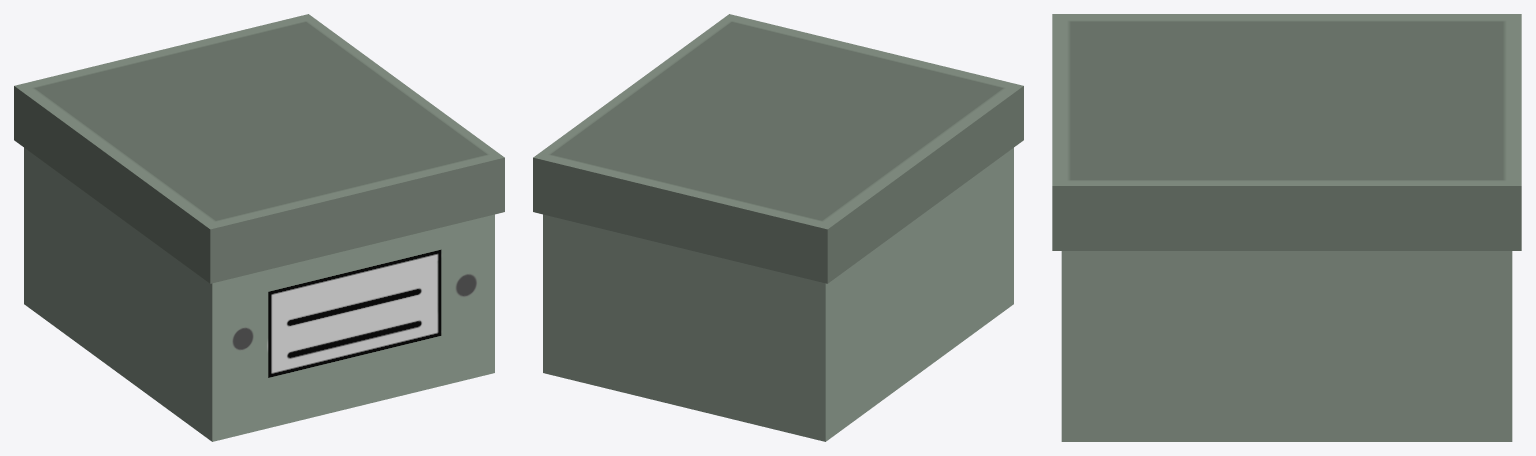
Rendered from SmallBox.fbx.
3 renders of one model, left to right at view 1: azimuth 30°, elevation 25°; view 2: azimuth 150°, elevation 25°; view 3: azimuth 270°, elevation 25°, orthographic. The views are drawn at different scales.
Visible parts, largest first — view 1: Box1, Box; view 2: Box1, Box; view 3: Box1, Box.
Part boxes in pixels (<box>): Box1: <box>14,14,504,283</box>; Box: <box>24,148,494,441</box>; Box1: <box>533,14,1023,283</box>; Box: <box>543,148,1013,441</box>; Box1: <box>1052,14,1521,250</box>; Box: <box>1061,251,1512,441</box>.
Size of the model in its own units: 90.29 by 63.53 by 104.
Materials: 1 (1 with a texture image).
